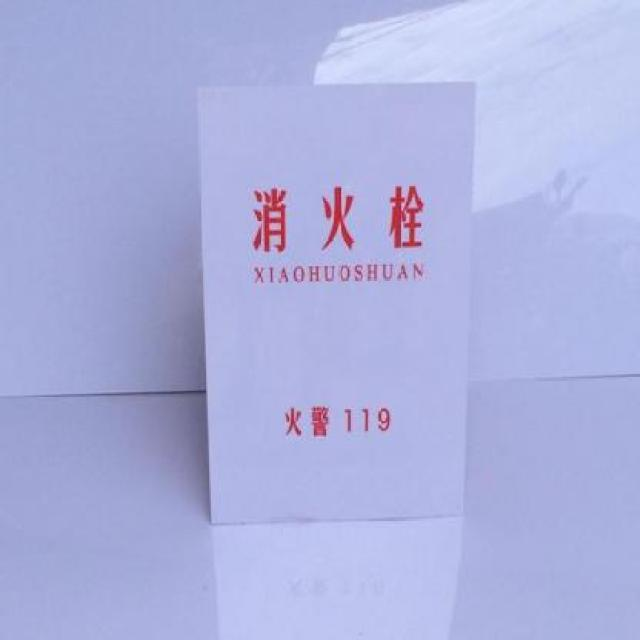firehydrant: (194, 76, 481, 530)
